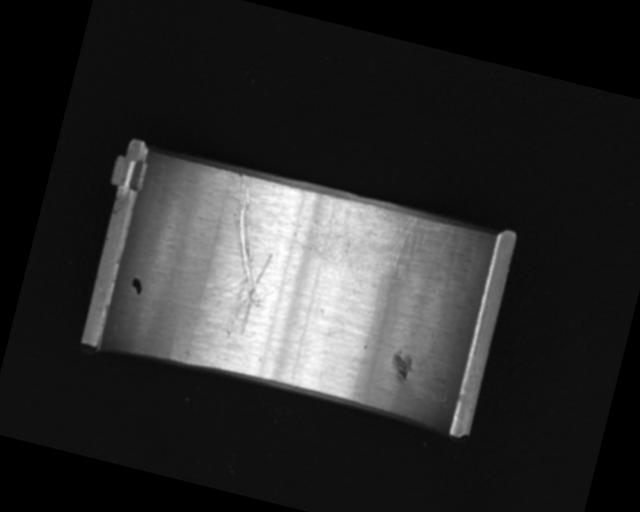blot: (127, 276, 146, 298)
bruise: (387, 349, 416, 383)
nick: (198, 173, 292, 344)
scratch: (312, 195, 448, 305)
